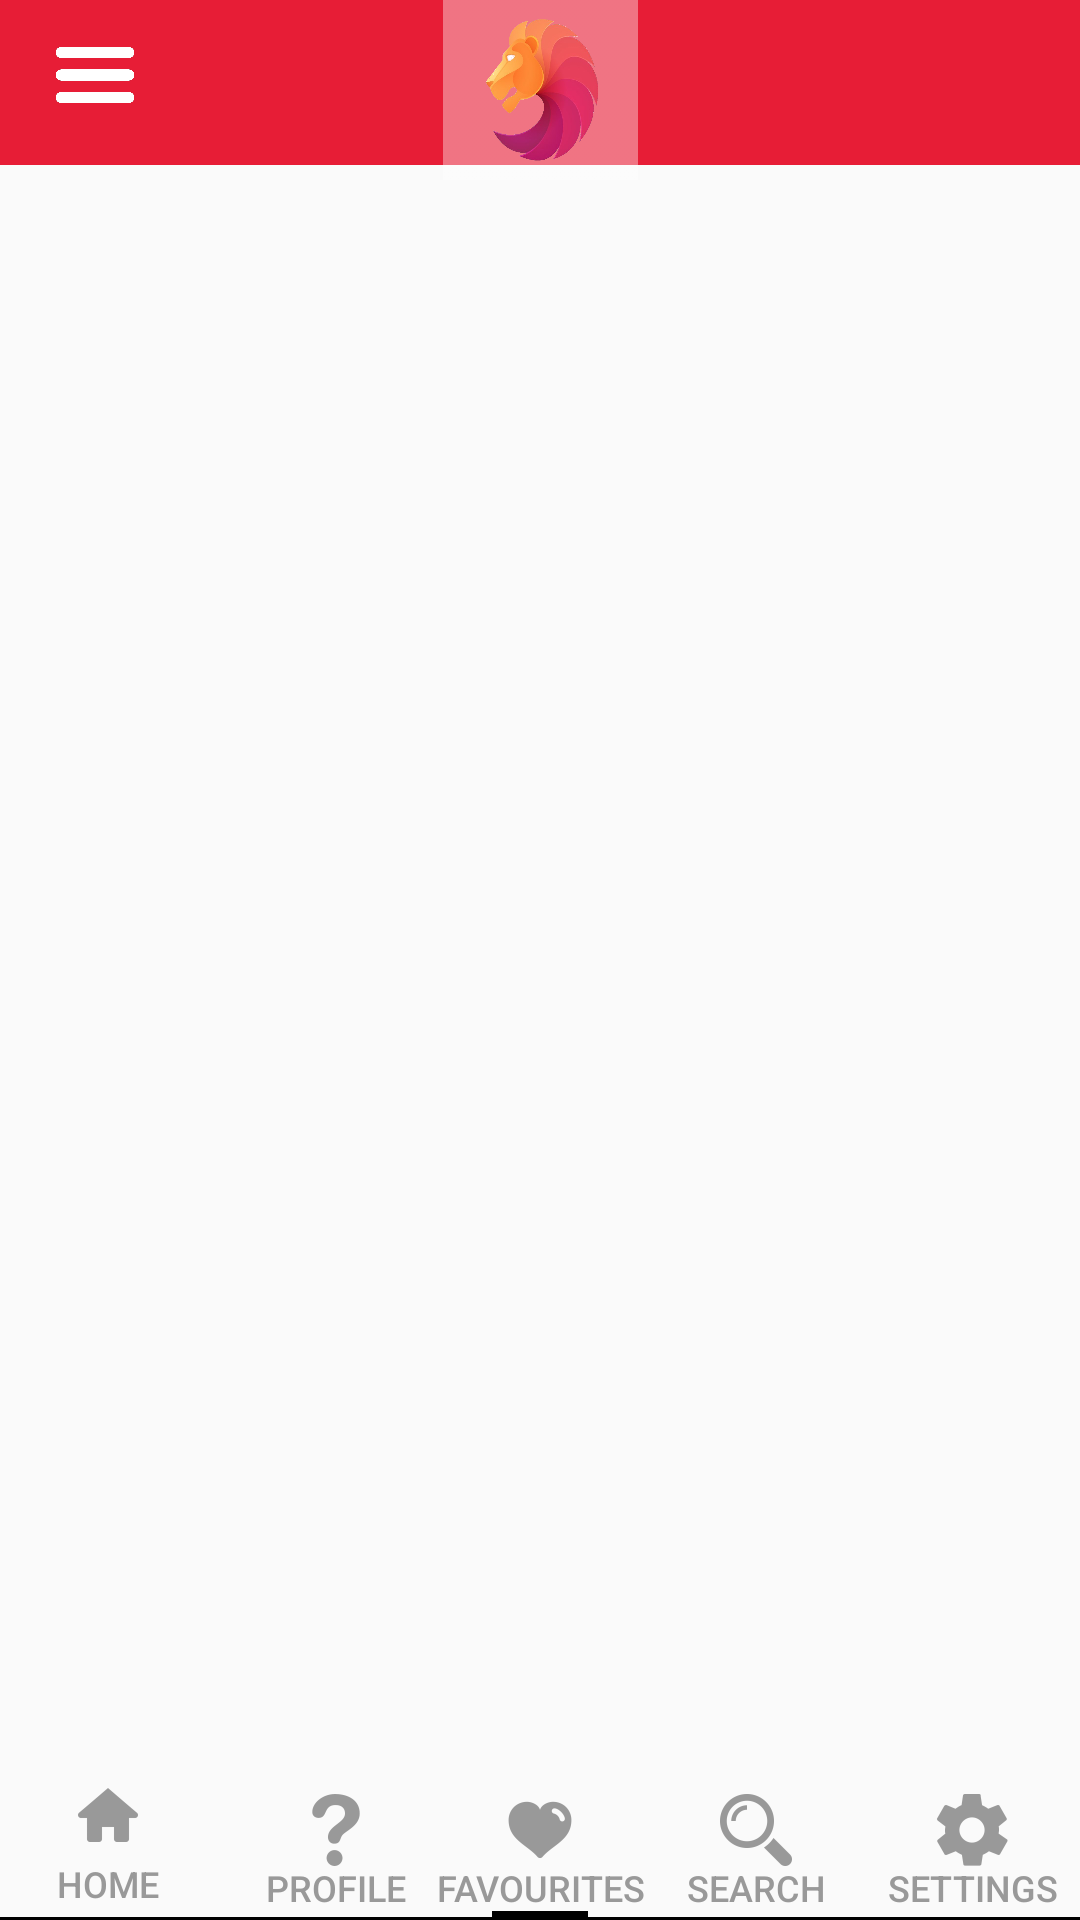

Locate icon controls on the screen. Image size 1080 × 1920, boxes as box(x1, y1, x2, y2).
menu: box(56, 47, 134, 103)
